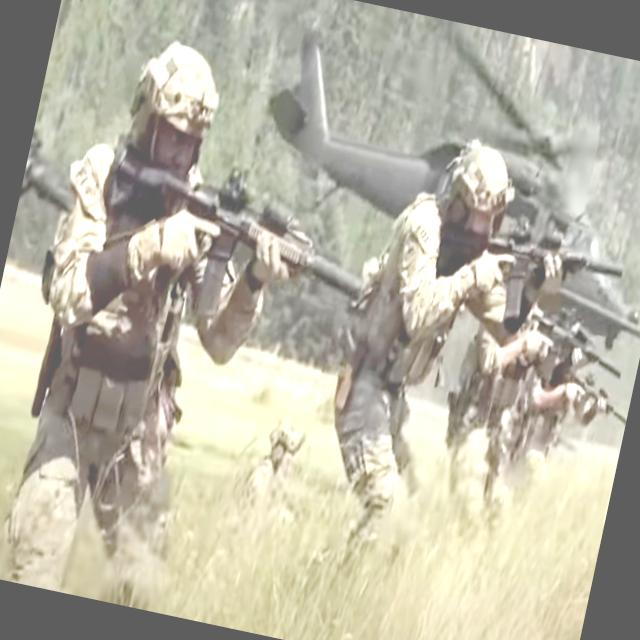m16: (78, 114, 400, 386)
